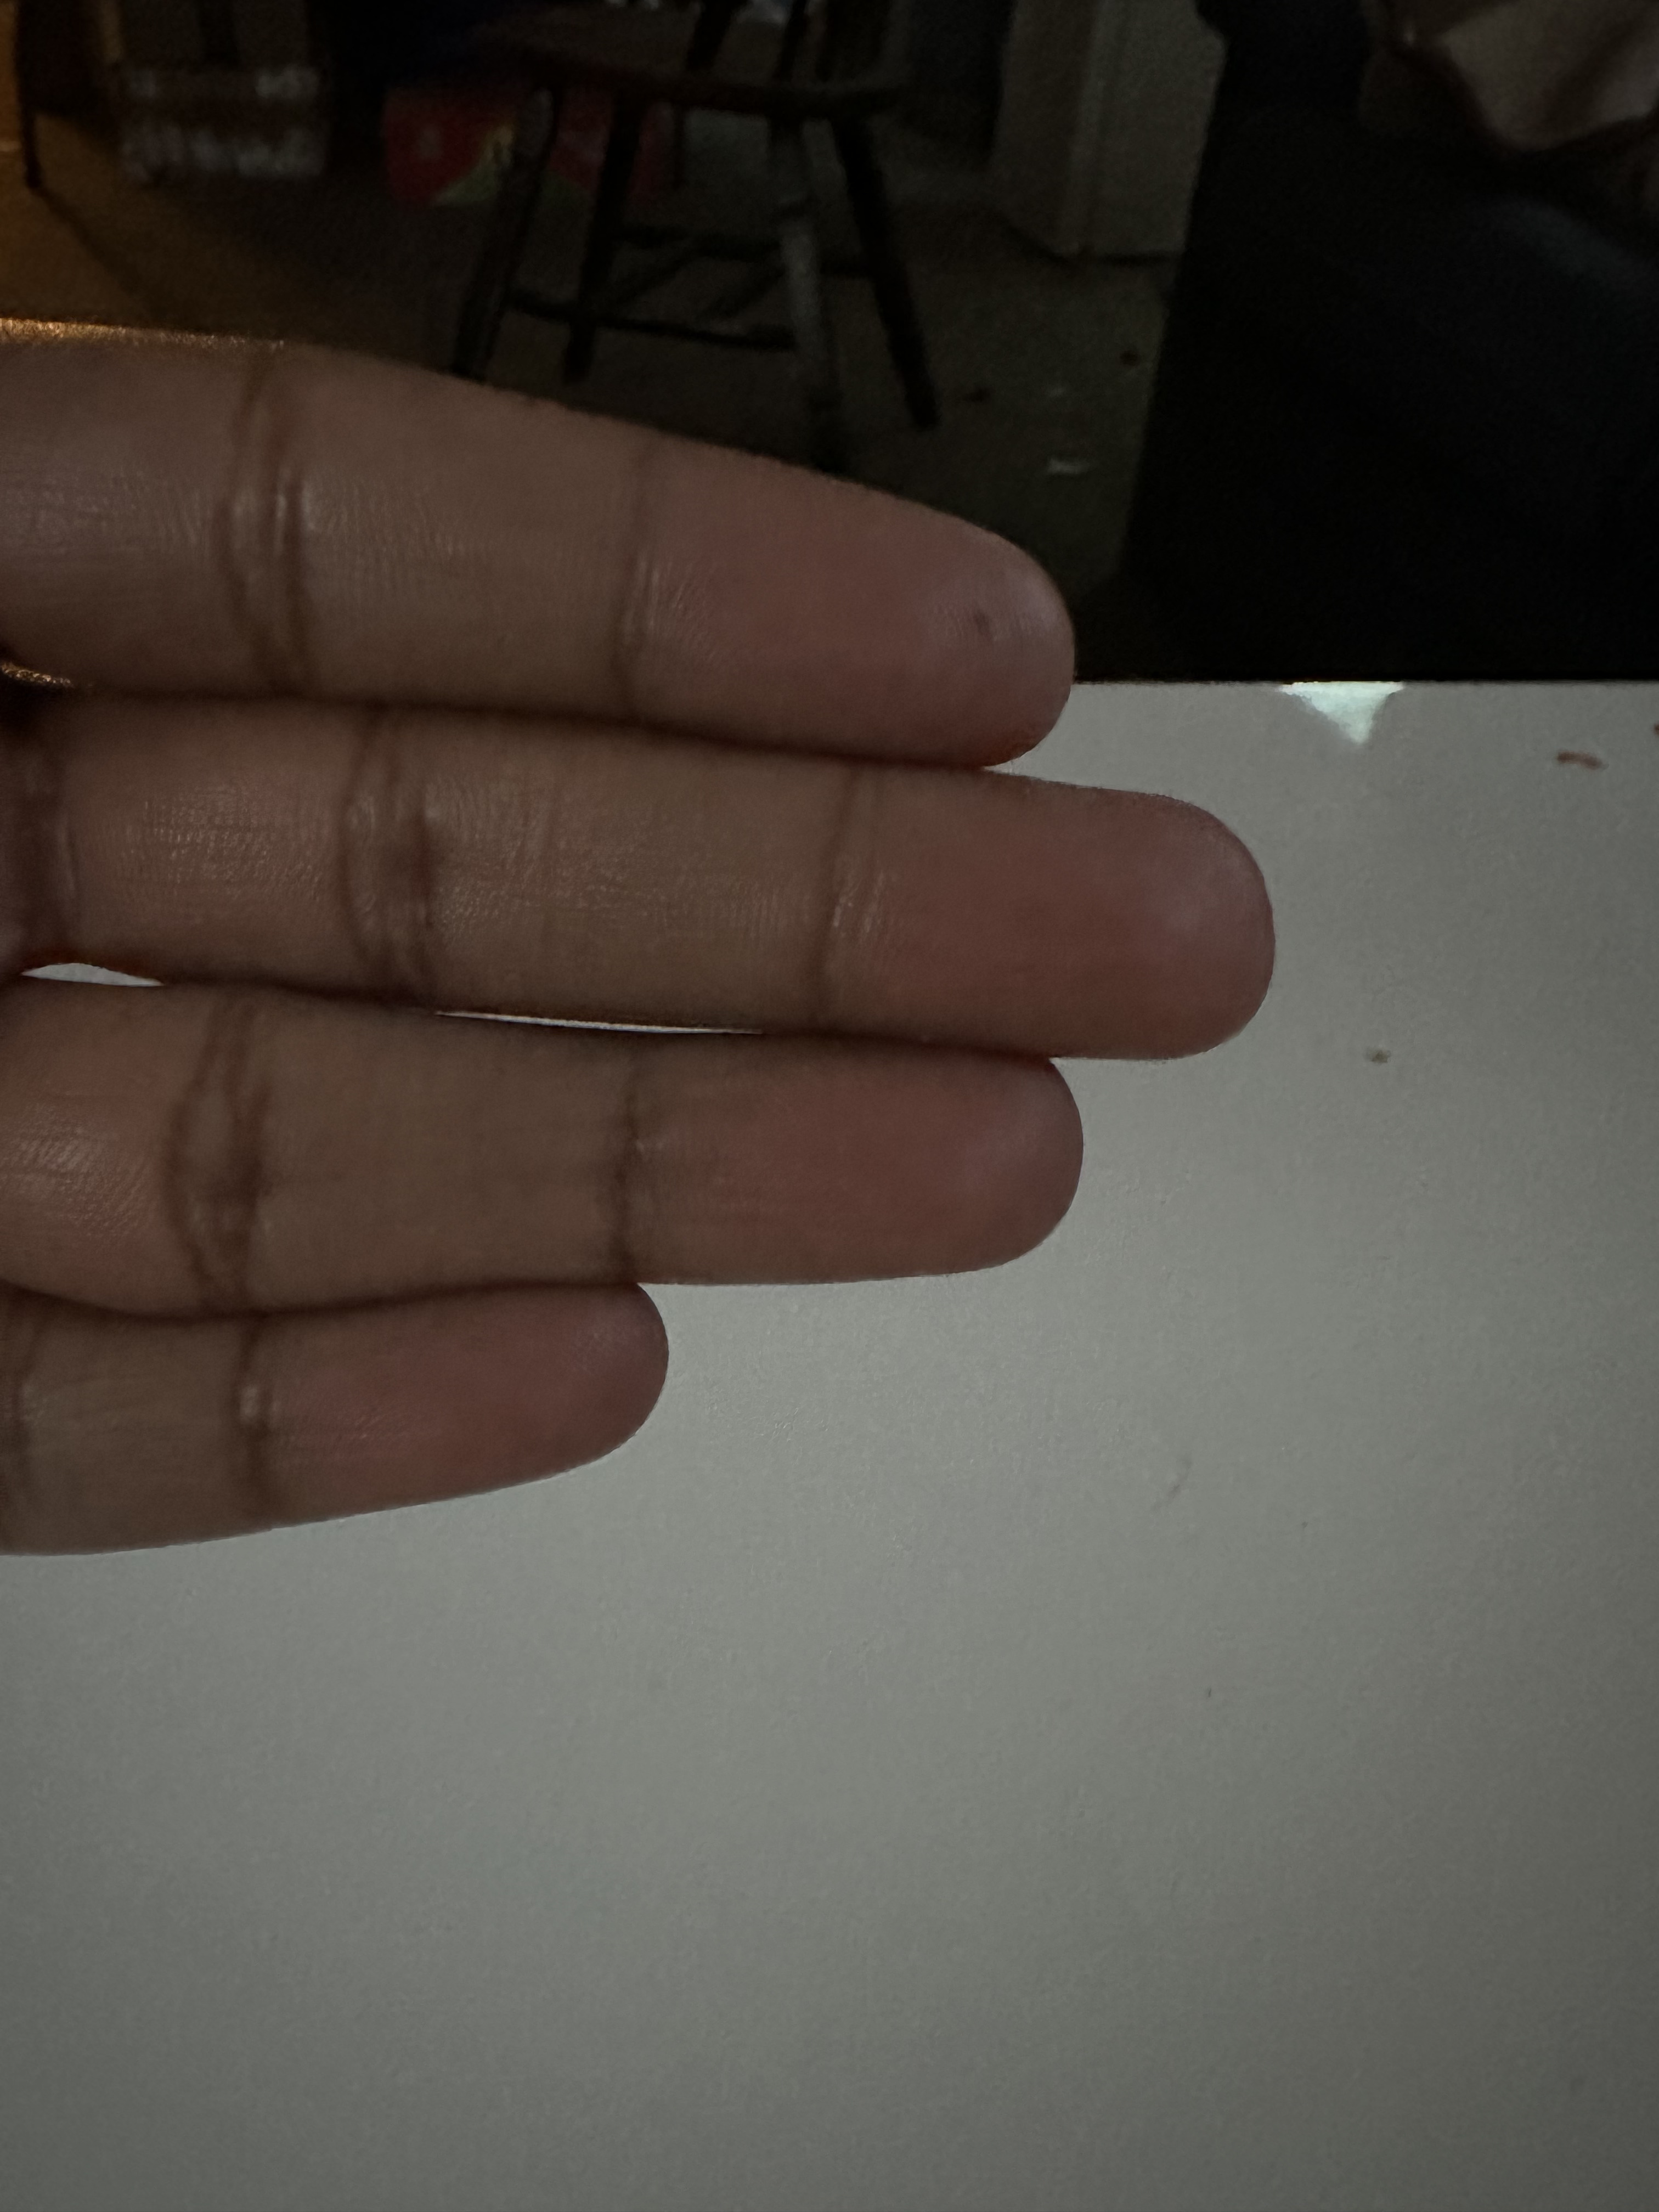finger: (633, 458, 1096, 754), (840, 772, 1304, 1057), (629, 1029, 1122, 1284), (240, 1282, 695, 1496)
